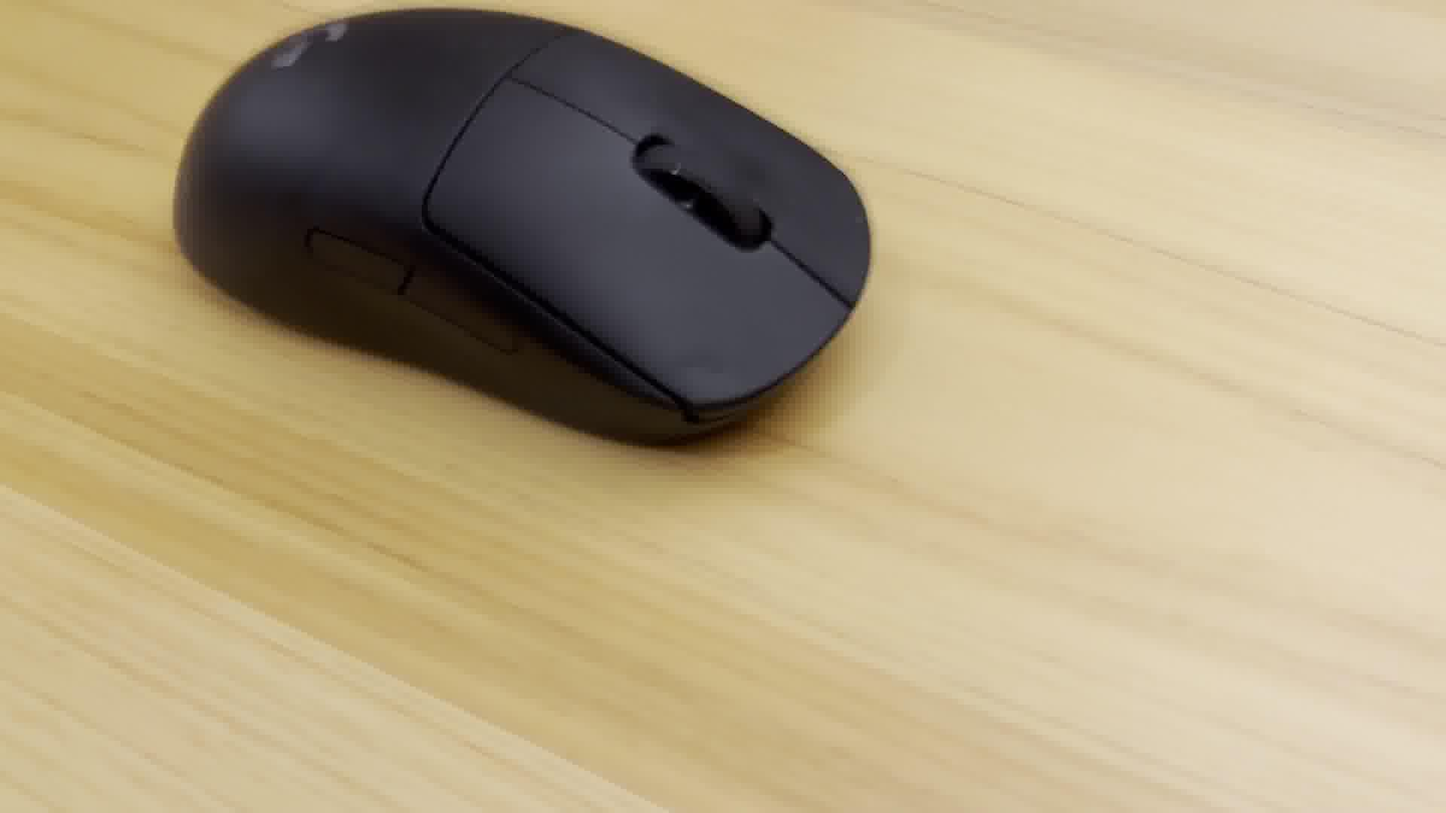logicool: (162, 3, 881, 454)
